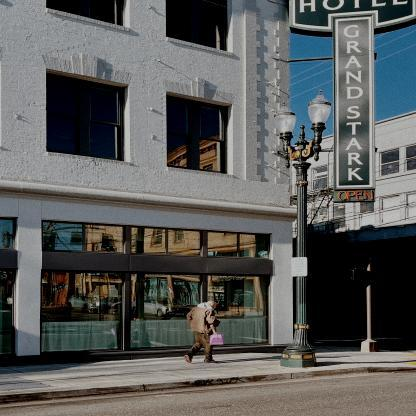light_pole: (272, 88, 333, 369)
